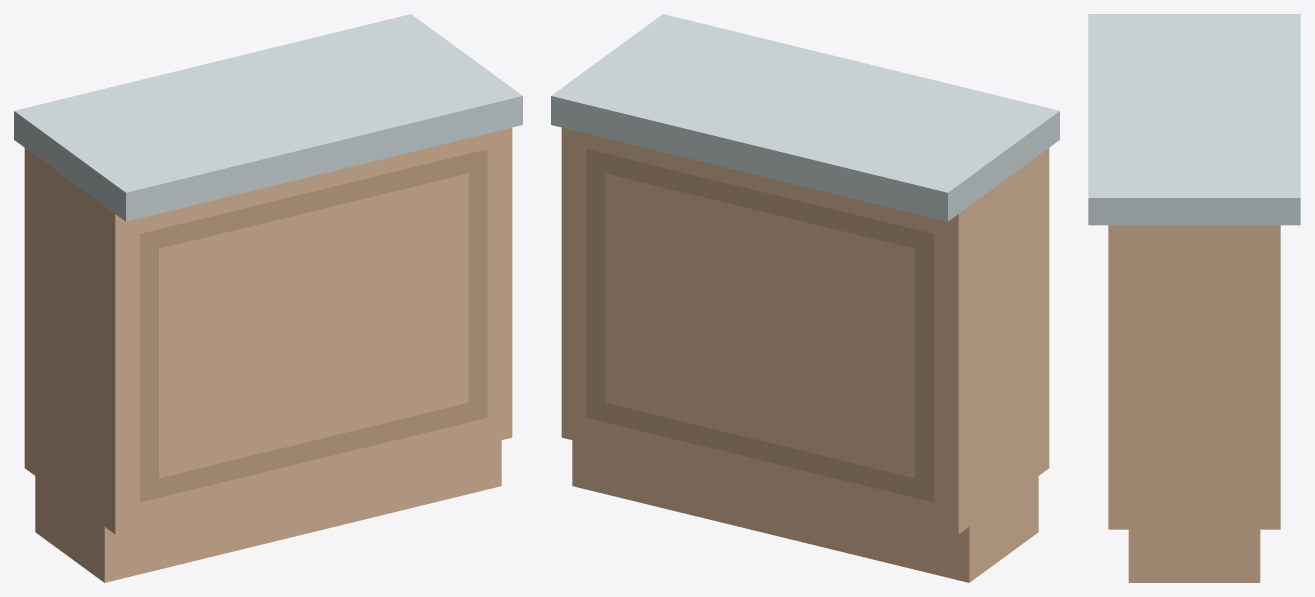
File: kitchenBar.glb
3 renders of one model, left to right at view 1: azimuth 30°, elevation 25°; view 2: azimuth 150°, elevation 25°; view 3: azimuth 270°, elevation 25°, orthographic. The views are drawn at different scales.
Visible parts, largest first — view 1: kitchenBar; view 2: kitchenBar; view 3: kitchenBar.
Part boxes in pixels (<box>): kitchenBar: <box>14,14,522,582</box>; kitchenBar: <box>551,14,1059,582</box>; kitchenBar: <box>1088,14,1300,582</box>.
Bounding box in the file's own units: 0.43 × 0.42 × 0.21.
